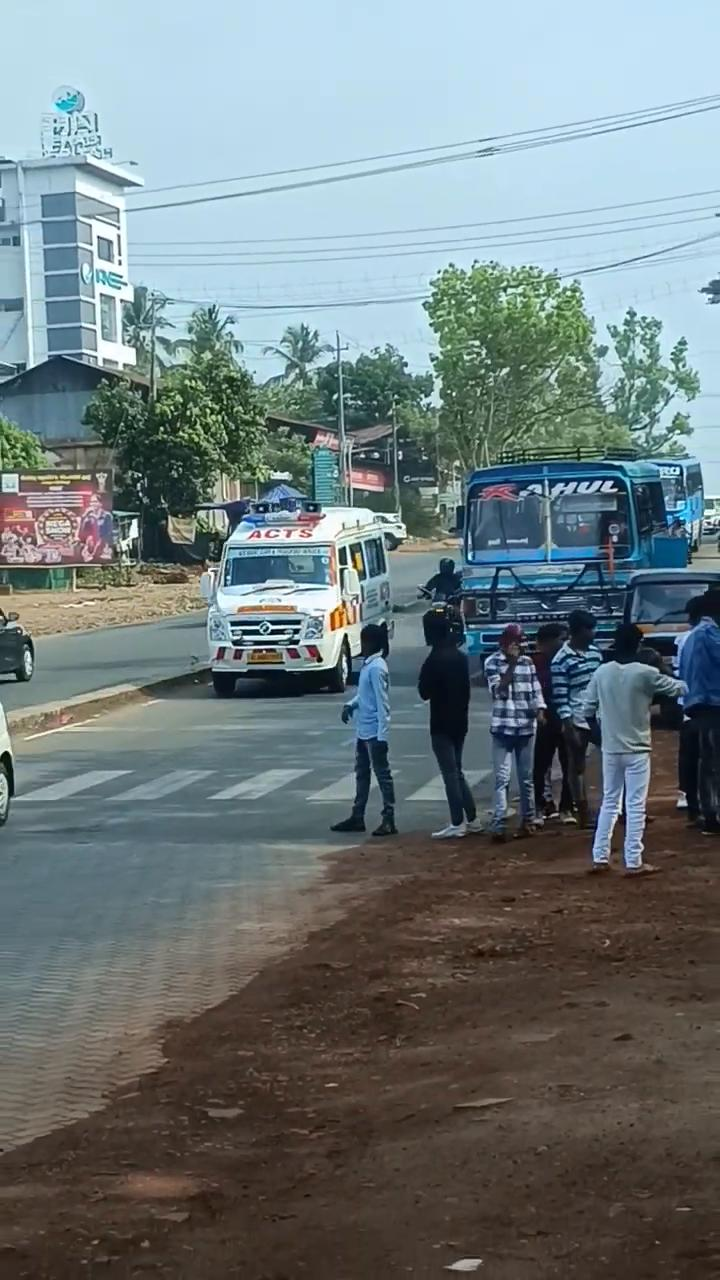AMBULANCE: (197, 495, 400, 697)
